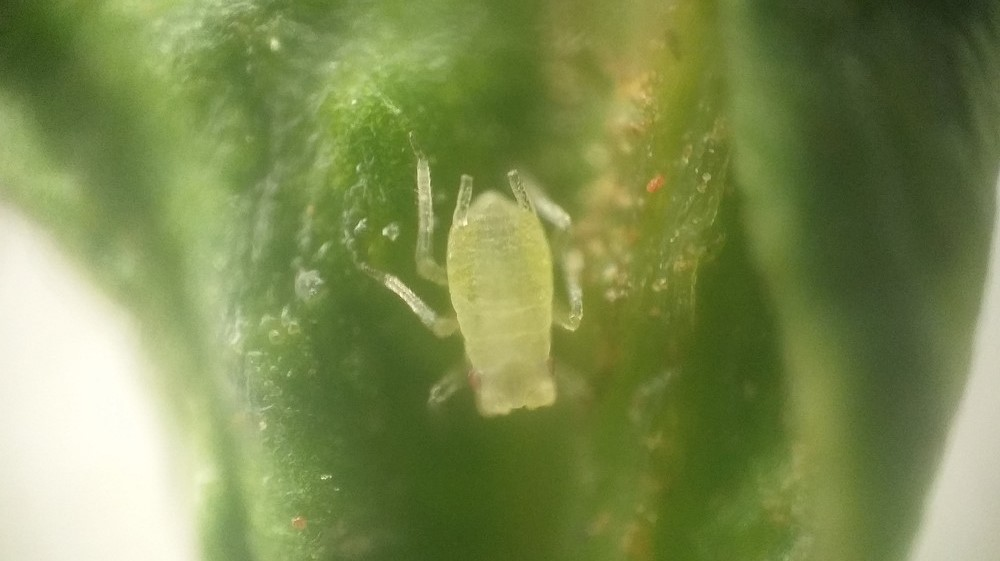Pulgon: (371, 144, 615, 432)
